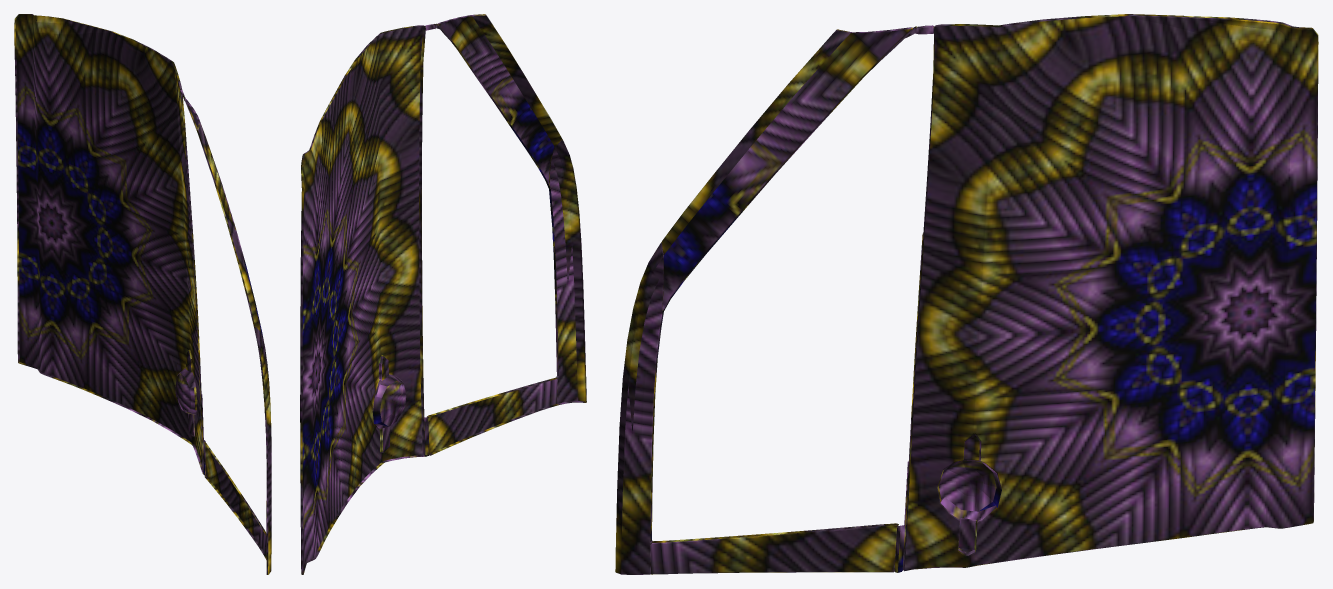
Rendered from door_rf.obj.
3 views of the same model, side by side, from view 1: azimuth 30°, elevation 25°; view 2: azimuth 150°, elevation 25°; view 3: azimuth 270°, elevation 25° (orthographic). The views are drawn at different scales.
Visible parts, largest first — view 1: Door_Rf; view 2: Door_Rf; view 3: Door_Rf.
Part boxes in pixels (box(x1,y1,x2,y2)): Door_Rf: box(14, 14, 271, 574); Door_Rf: box(300, 14, 586, 574); Door_Rf: box(615, 14, 1318, 574).
Size of the model in its own units: 0.1355 by 0.9345 by 1.03.
1 material, 1 textured.
